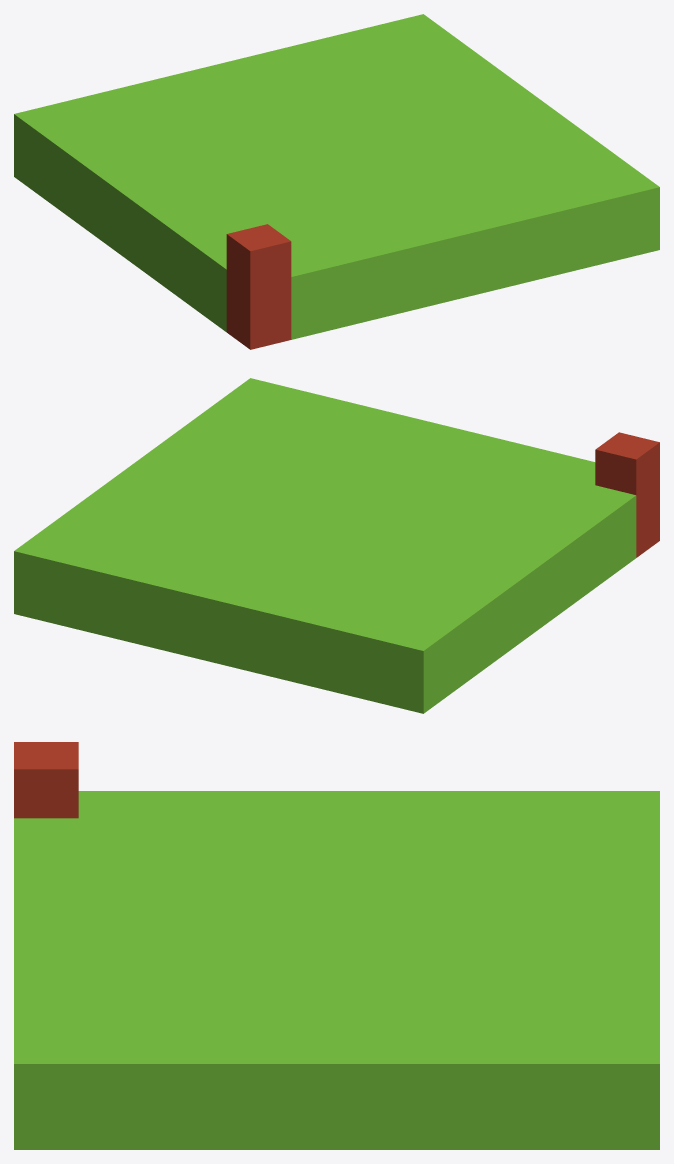
File: Inner_Corner.FBX
3 renders of one model, top to bottom at view 1: azimuth 30°, elevation 25°; view 2: azimuth 150°, elevation 25°; view 3: azimuth 270°, elevation 25°, orthographic. The views are drawn at different scales.
Visible parts, largest first — view 1: Inner_corner_01, Walls; view 2: Inner_corner_01, Walls; view 3: Inner_corner_01, Walls.
Part boxes in pixels (<box>): Inner_corner_01: <box>14,14,659,339</box>; Walls: <box>226,224,291,349</box>; Inner_corner_01: <box>14,378,636,713</box>; Walls: <box>595,432,659,557</box>; Inner_corner_01: <box>14,791,659,1149</box>; Walls: <box>14,742,78,818</box>.
Size of the model in its own units: 0.9999 by 0.9999 by 0.23.
